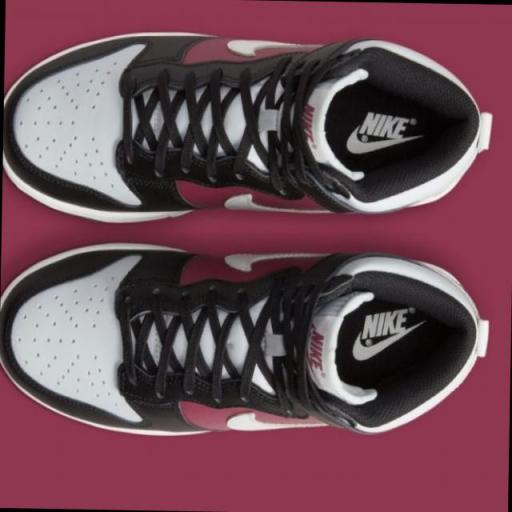Nike: (350, 327, 408, 365), (353, 110, 409, 140)
